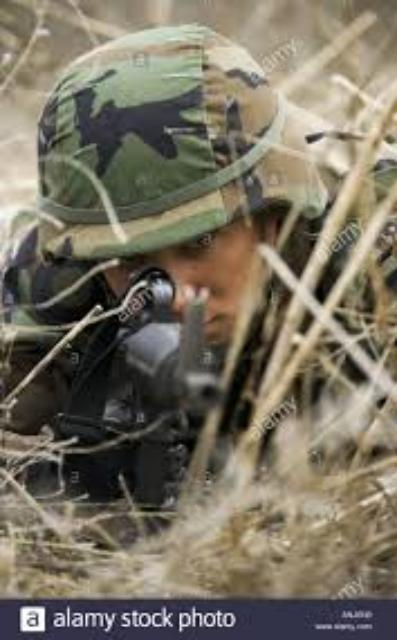other: (0, 27, 381, 493)
